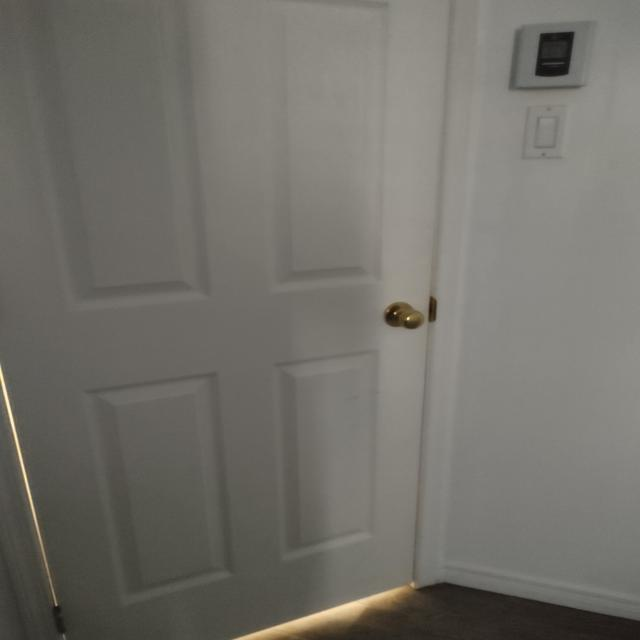door-knob: (384, 302, 424, 329)
